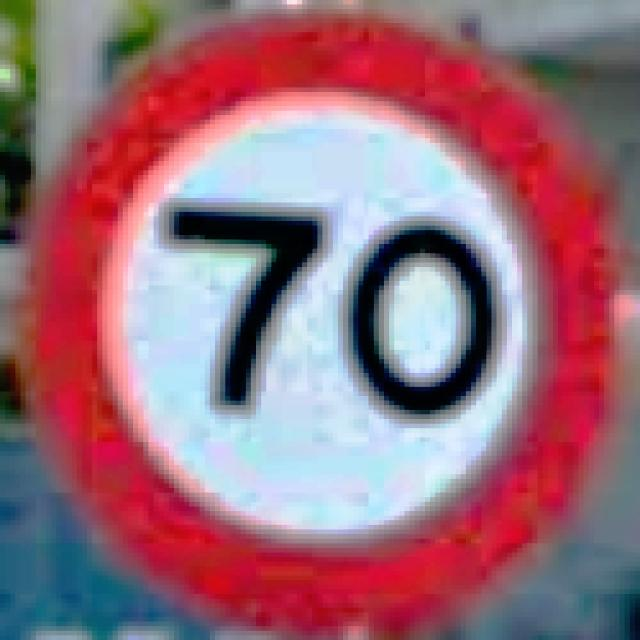max70: (15, 0, 624, 635)
